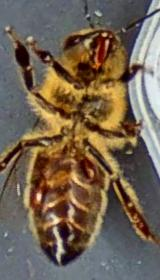varroa_mite: (18, 162, 62, 218), (76, 148, 101, 183)
